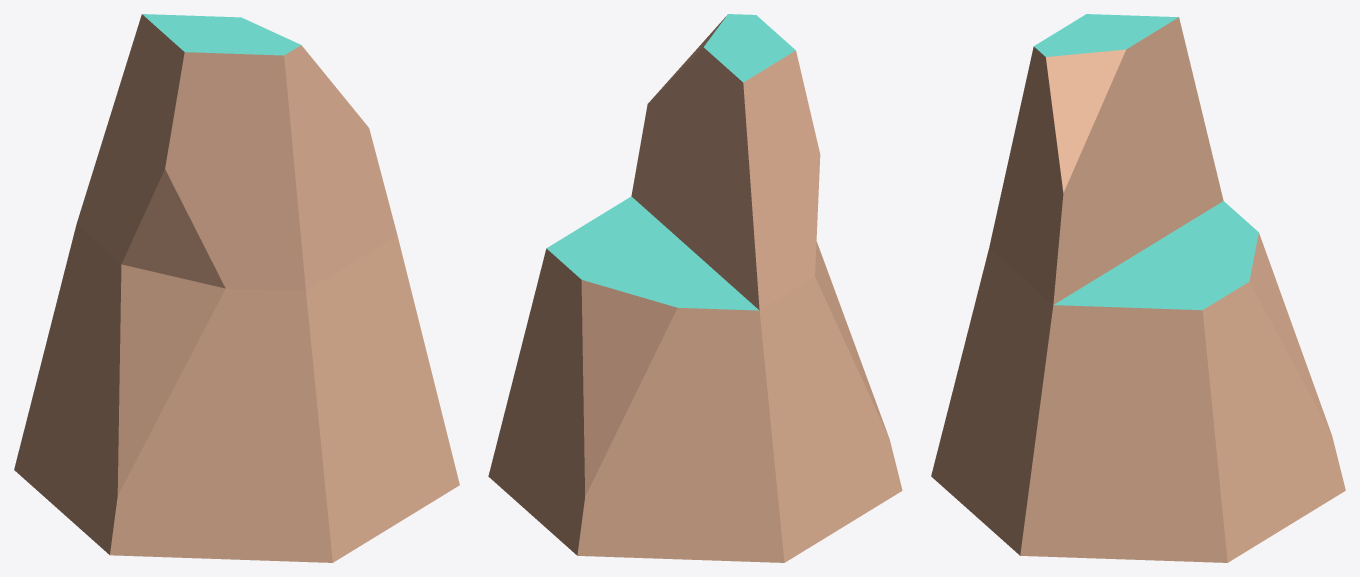
The model's file is rock_tallJ.glb.
3 views of the same model, side by side, from view 1: azimuth 30°, elevation 25°; view 2: azimuth 150°, elevation 25°; view 3: azimuth 270°, elevation 25° (orthographic). The views are drawn at different scales.
Visible parts, largest first — view 1: rock_tallJ; view 2: rock_tallJ; view 3: rock_tallJ.
Boxes of the visible parts, x1,y1,x2,y2 form: rock_tallJ: (14,14,459,562); rock_tallJ: (488,14,902,562); rock_tallJ: (931,14,1345,562).
Bounding box in the file's own units: 0.4879 × 0.62 × 0.5382.
